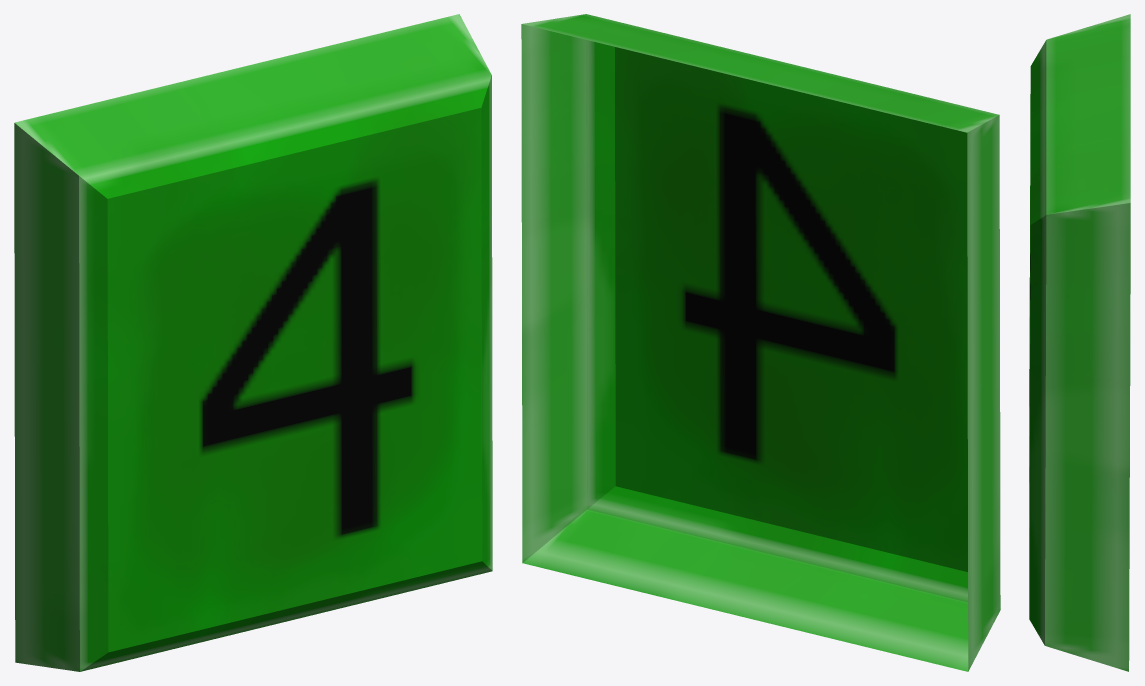
Rendered from PadNumber_4.FBX.
3 renders of one model, left to right at view 1: azimuth 30°, elevation 25°; view 2: azimuth 150°, elevation 25°; view 3: azimuth 270°, elevation 25°, orthographic. The views are drawn at different scales.
Visible parts, largest first — view 1: Pad_Number_4; view 2: Pad_Number_4; view 3: Pad_Number_4.
Part boxes in pixels (x1,y1,x2,y2): Pad_Number_4: (14,14,492,671); Pad_Number_4: (521,14,1000,671); Pad_Number_4: (1029,14,1130,671).
Bounding box in the file's own units: 5.37 × 6.22 × 1.22.
1 material, 1 textured.
